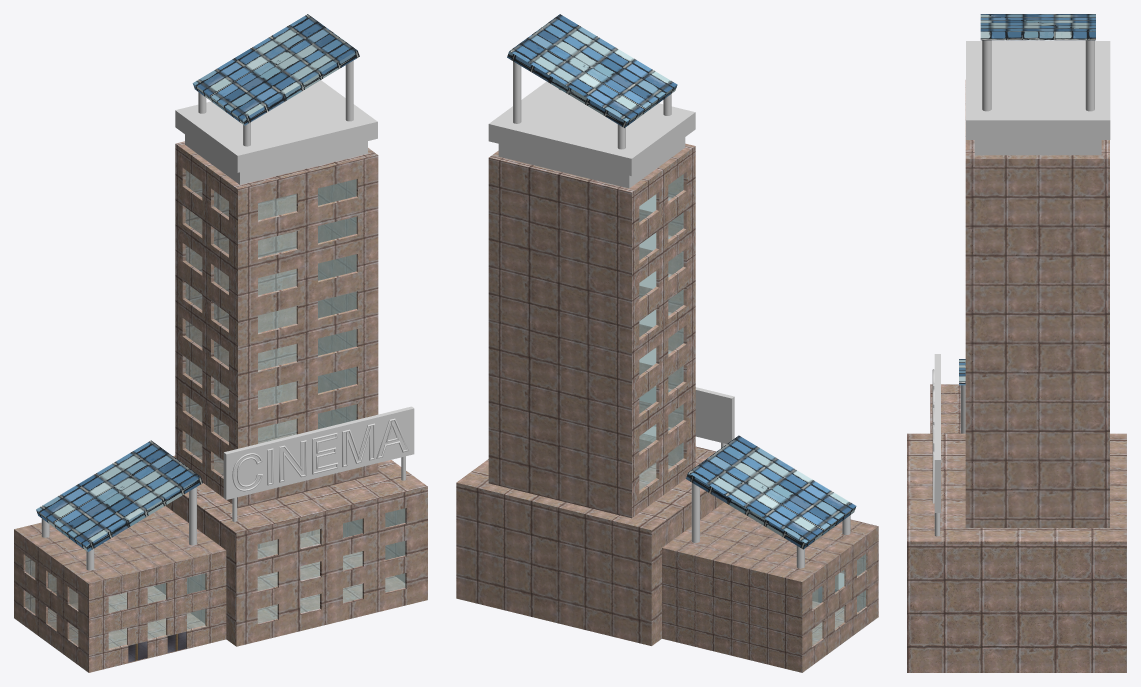
The model's file is Cinema Building TEXTURED.FBX.
3 views of the same model, side by side, from view 1: azimuth 30°, elevation 25°; view 2: azimuth 150°, elevation 25°; view 3: azimuth 270°, elevation 25° (orthographic). The views are drawn at different scales.
Parts seen in each view (by area): view 1: Box001, Box002, Box003, Object006, Box005, Box007, Box006, Box008, Object004, CinemaSideBuilding, Text001, Box004; view 2: Box001, Box002, Box003, Box005, Box007, Box006, Object006, Box004, Box008, CinemaSideBuilding; view 3: Box001, Box002, Box005, Box006, Box004, Box003, Box008, Cylinder003, Cylinder001, Text001.
Part boxes in pixels (x1,y1,x2,y2): Box001: (175, 141, 378, 507); Box002: (165, 433, 427, 646); Box003: (14, 506, 226, 672); Object006: (185, 170, 356, 475); Box005: (175, 80, 377, 172); Box007: (36, 440, 202, 551); Box006: (192, 14, 359, 125); Box008: (223, 406, 414, 499); Object004: (257, 508, 405, 623); CinemaSideBuilding: (25, 555, 205, 662); Text001: (232, 418, 408, 491); Box004: (185, 134, 367, 184); Box001: (488, 143, 695, 518); Box002: (456, 434, 723, 645); Box003: (662, 502, 878, 672); Box005: (488, 81, 695, 176); Box007: (686, 435, 856, 549); Box006: (507, 14, 677, 127); Object006: (639, 174, 683, 490); Box004: (498, 137, 685, 188); Box008: (639, 387, 734, 443); CinemaSideBuilding: (812, 554, 865, 645); Box001: (965, 80, 1109, 527); Box002: (907, 433, 1126, 672); Box005: (966, 41, 1110, 139); Box006: (980, 14, 1095, 40); Box004: (974, 140, 1101, 155); Box003: (930, 384, 960, 433); Box008: (934, 354, 940, 512); Cylinder003: (1085, 40, 1094, 111); Cylinder001: (982, 40, 991, 111); Text001: (932, 369, 934, 503).
Bounding box in the file's own units: 96.44 × 150 × 48.21.
Materials: 4 (3 with a texture image).
